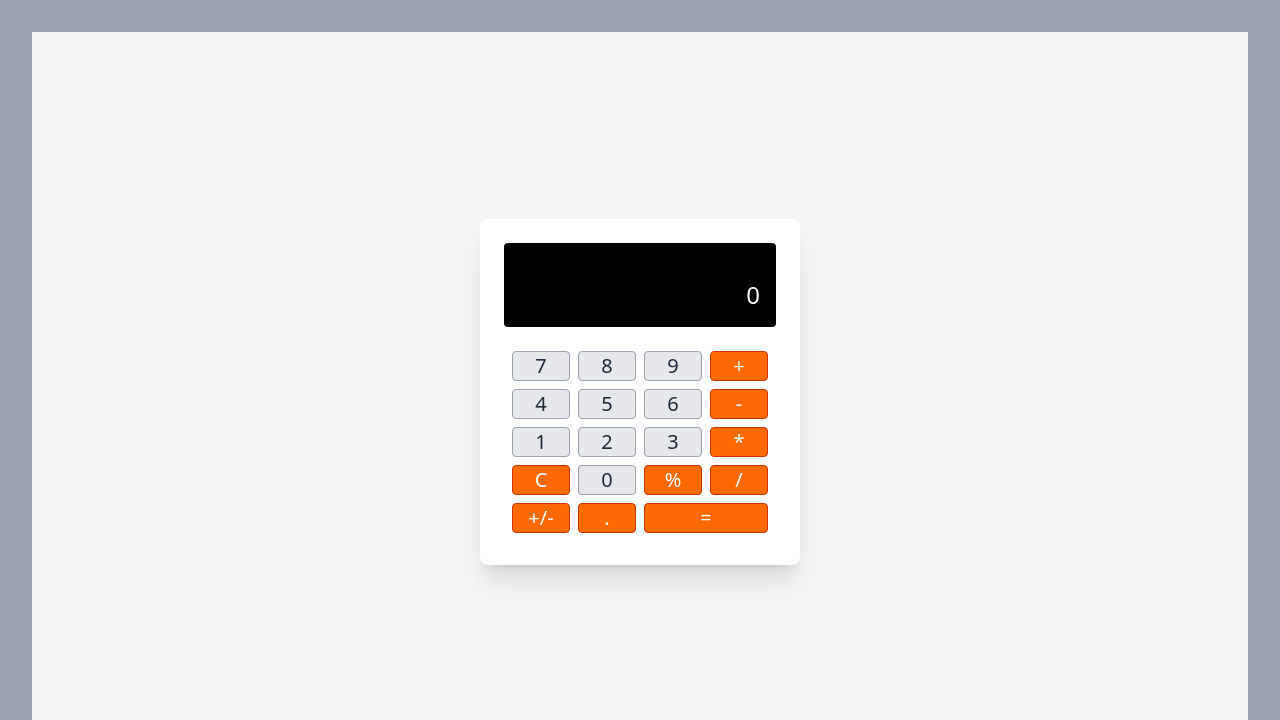
Calculadora › debe calcular automáticamente al presionar operador y segundo número (7 + 3 = 10)
This screenshot has width=1280, height=720.
Click the button "7" at (541, 366), box [512,351,570,381]
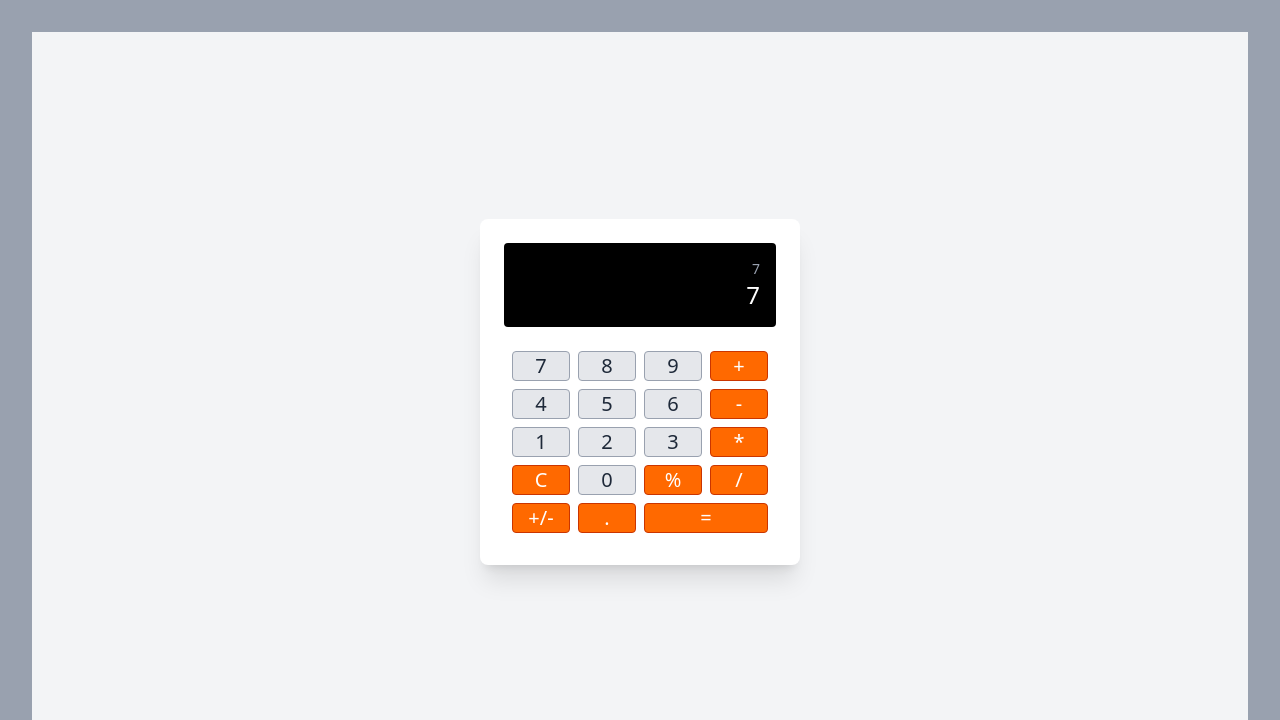
Click the button "+" at (739, 366), box [710,351,768,381]
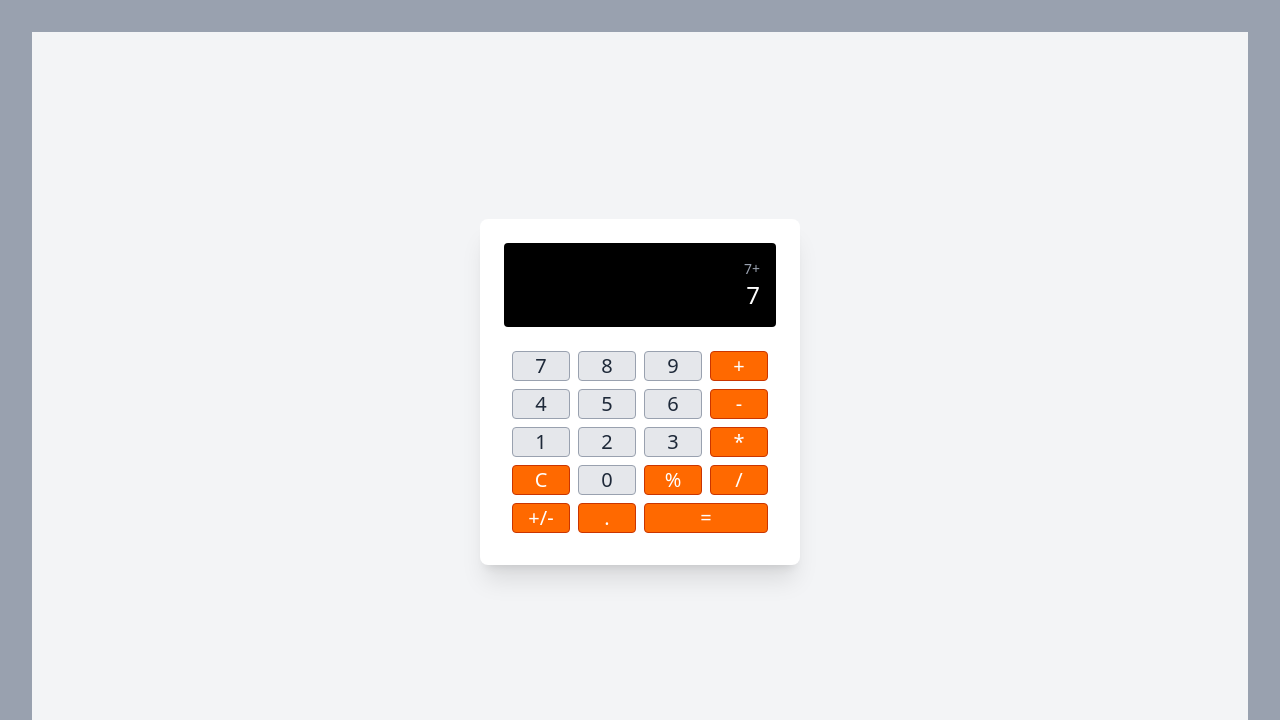
Click the button "3" at (673, 442), box [644,427,702,457]
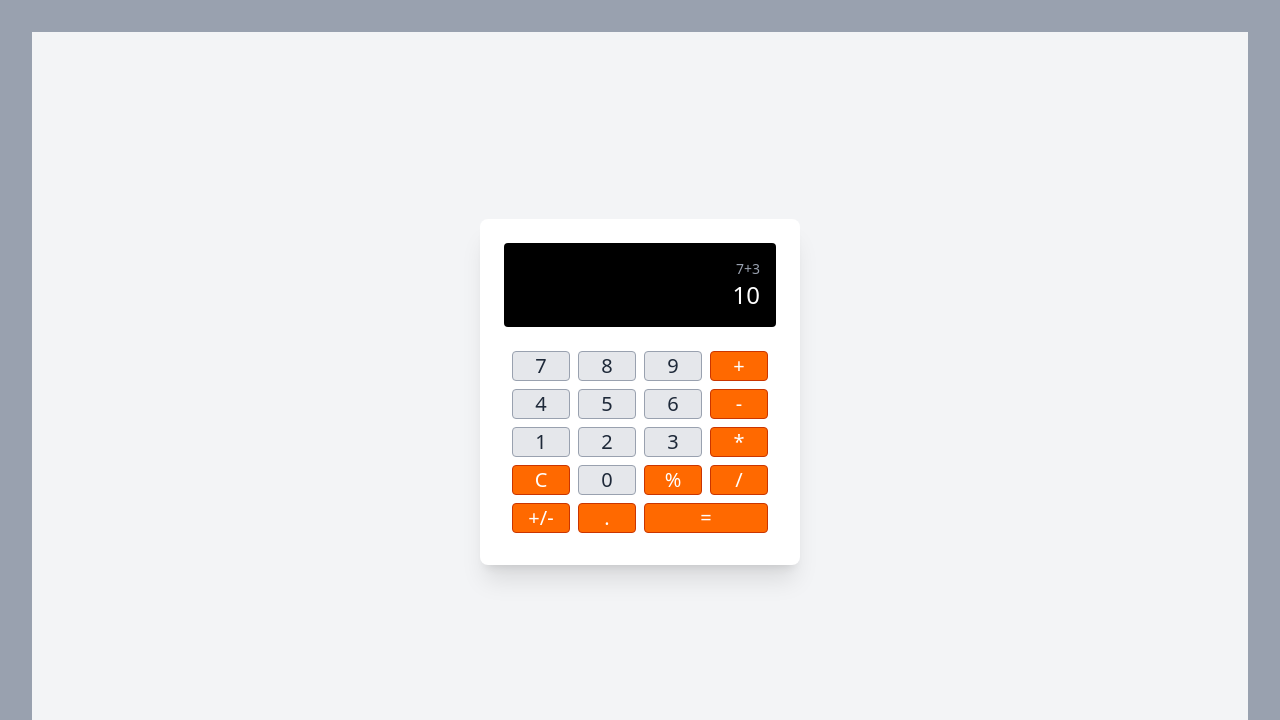
Check: the text with test id "display" reads "10", box [732,278,760,311]
